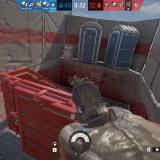Character: (70, 75, 84, 87)
Head: (73, 75, 77, 81)
